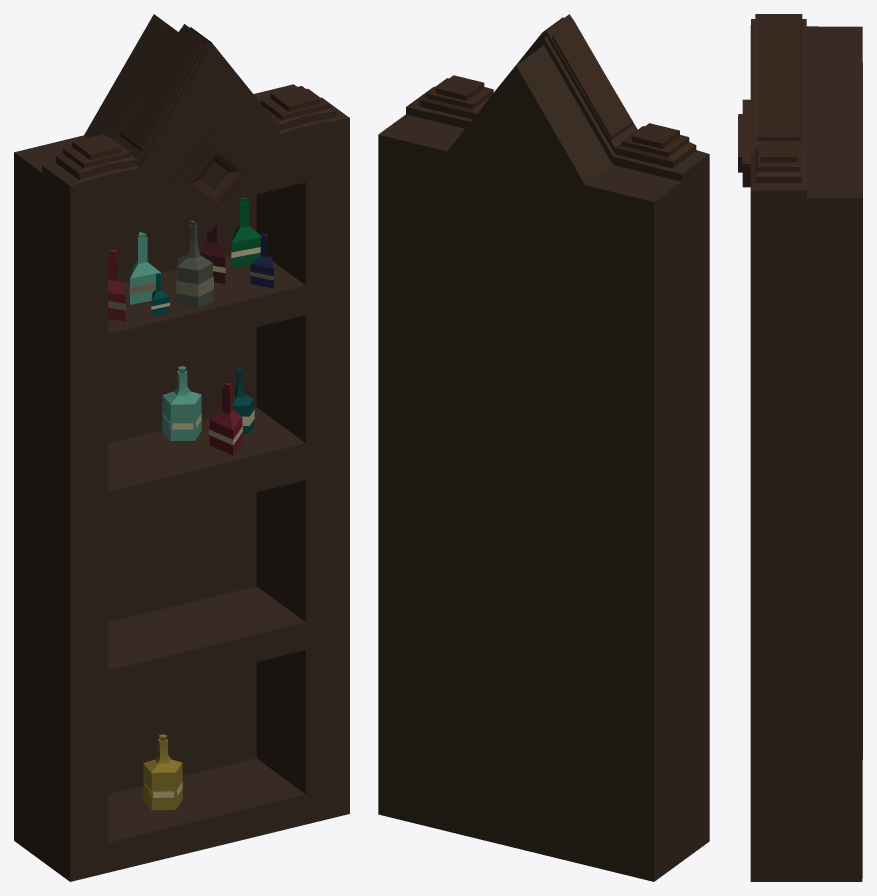
File: Library 1 Full.fbx
The picture shows the model from 3 angles, left to right: view 1: azimuth 30°, elevation 25°; view 2: azimuth 150°, elevation 25°; view 3: azimuth 270°, elevation 25°; orthographic projection.
Parts seen in each view (by area): view 1: Library 3.003, Potion 2.004, Potion 2.003, Potion 3.006, Potion 1.005, Potion 1.003, Potion 1.006, Potion 1.007, Potion 1.009, Potion 1.004, Potion 3.005; view 2: Library 3.003; view 3: Library 3.003.
Boxes of the visible parts, <box> form: Library 3.003: <box>14,14,349,881</box>; Potion 2.004: <box>143,734,182,810</box>; Potion 2.003: <box>162,366,201,441</box>; Potion 3.006: <box>176,220,213,308</box>; Potion 1.005: <box>208,382,242,455</box>; Potion 1.003: <box>231,197,261,268</box>; Potion 1.006: <box>129,232,161,304</box>; Potion 1.007: <box>108,249,126,321</box>; Potion 1.009: <box>250,233,274,288</box>; Potion 1.004: <box>199,225,225,283</box>; Potion 3.005: <box>233,368,254,434</box>; Library 3.003: <box>378,14,709,881</box>; Library 3.003: <box>738,14,862,881</box>.
Bounding box in the file's own units: 200 × 550 × 77.77.
